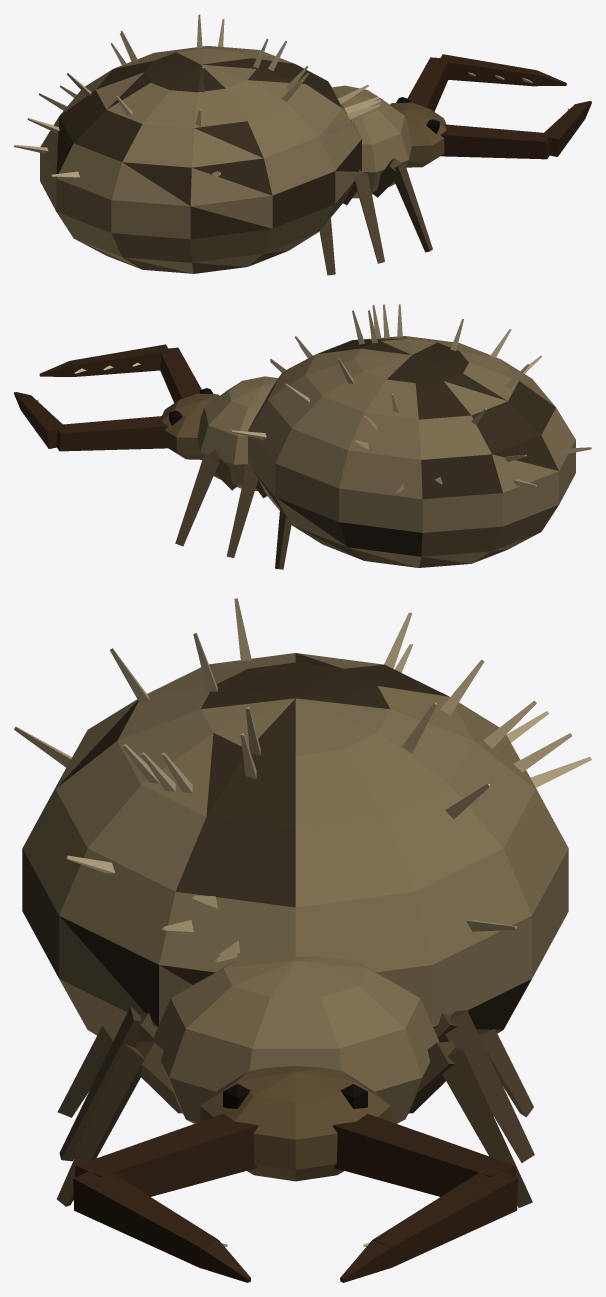
File: bosses-the-antlion-queen.glb
The picture shows the model from 3 angles, top to bottom: view 1: azimuth 30°, elevation 25°; view 2: azimuth 150°, elevation 25°; view 3: azimuth 270°, elevation 25°; orthographic projection. The views are drawn at different scales.
Bounding box in the file's own units: 15.49 × 5.81 × 7.5.
